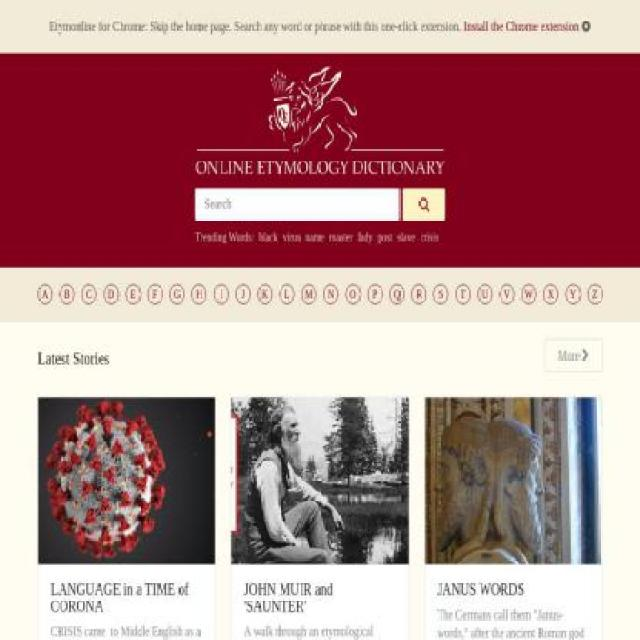button: (37, 346, 217, 639), (230, 346, 410, 639), (423, 346, 603, 639), (544, 288, 602, 322), (59, 235, 75, 253), (103, 235, 119, 253), (191, 235, 207, 253), (213, 235, 229, 253), (235, 235, 251, 253), (279, 235, 295, 253), (301, 235, 317, 253), (323, 235, 339, 253), (345, 235, 361, 253), (411, 235, 427, 253), (433, 235, 449, 253), (455, 235, 471, 253), (499, 235, 515, 253), (521, 235, 537, 253), (543, 235, 559, 253), (565, 235, 581, 253), (147, 235, 162, 253), (367, 235, 382, 253), (477, 235, 492, 253), (587, 235, 602, 253), (38, 235, 52, 253), (82, 235, 96, 253), (126, 235, 140, 253), (170, 235, 184, 253), (258, 235, 272, 253), (390, 235, 404, 253)
field: (195, 138, 399, 170), (402, 138, 446, 170)
